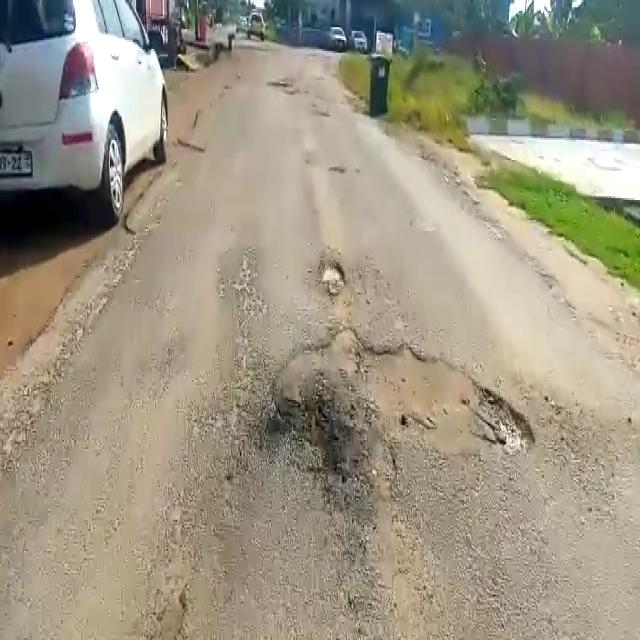Pothole: (271, 328, 537, 468), (314, 261, 347, 303)
